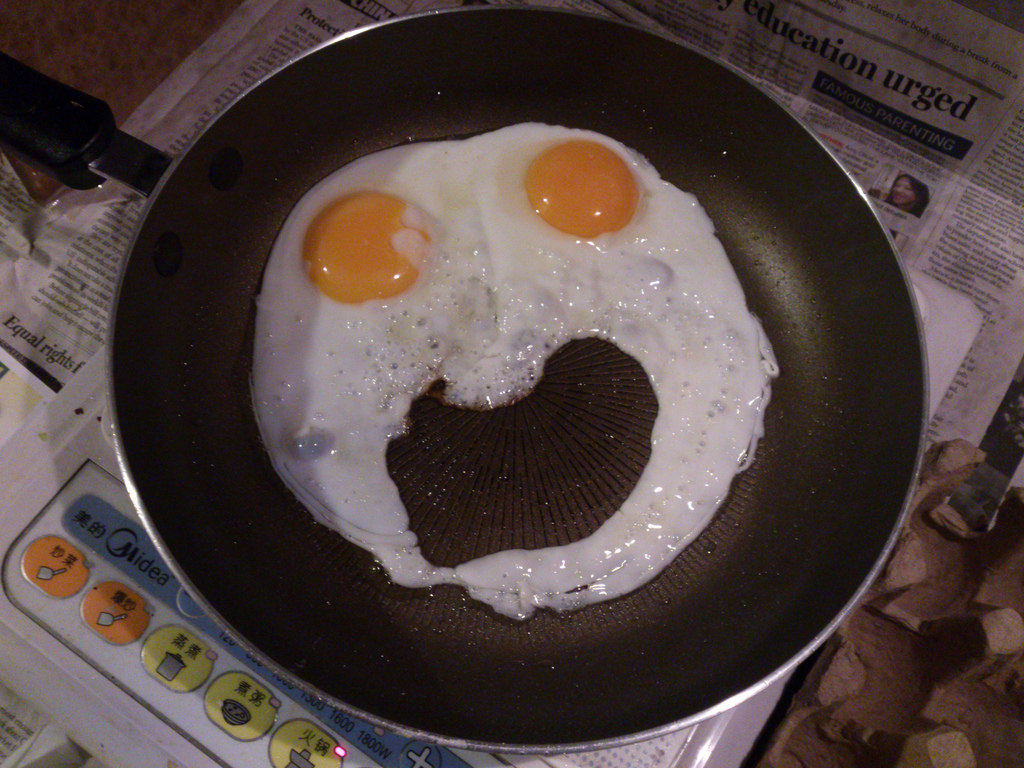fried egg: (277, 147, 466, 415), (447, 140, 687, 345)
